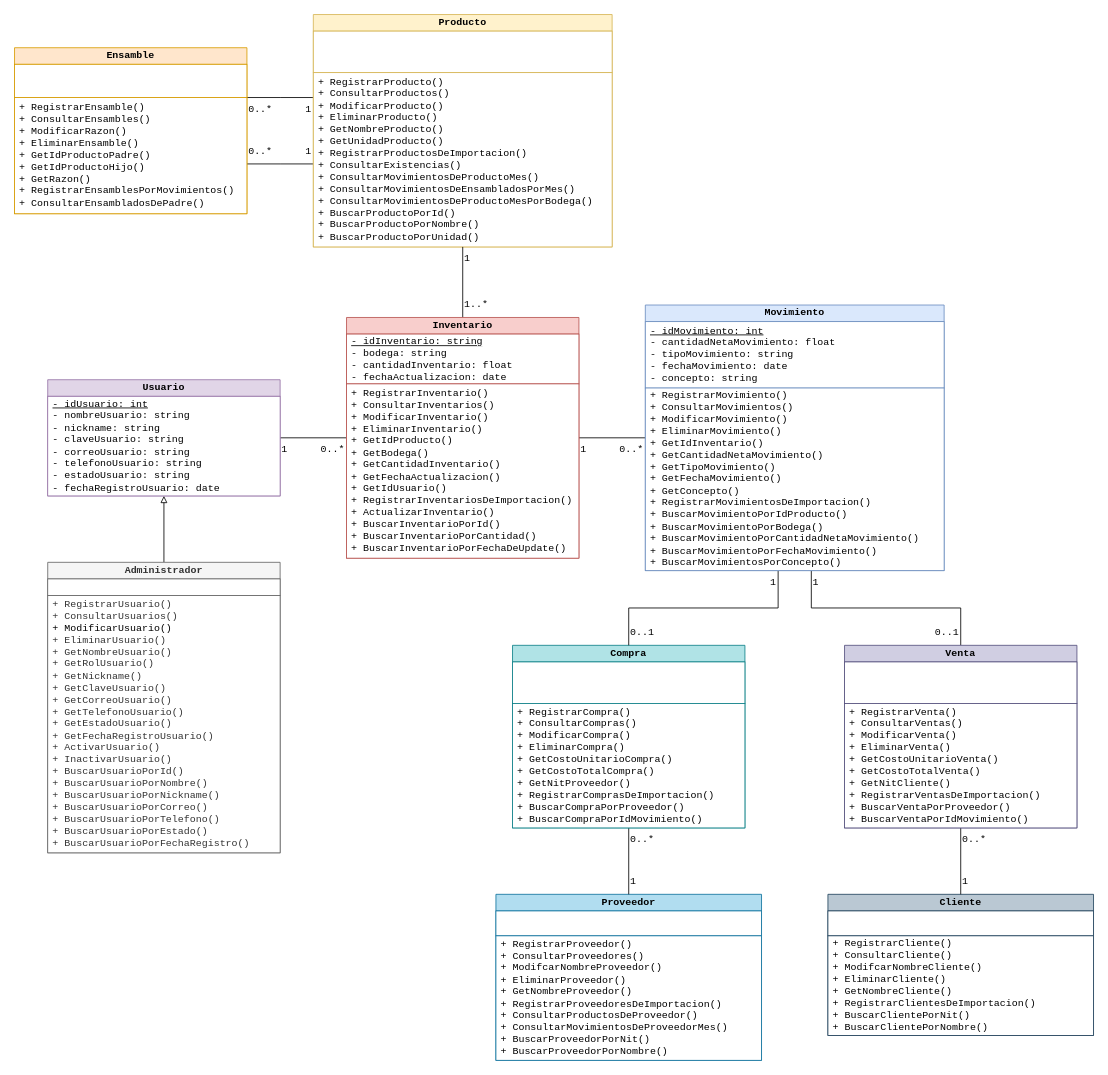
The diagram is 1108 pixels wide and 1075 high, and some of its shapes have lost their labels. Here are the shapes that lost their labels. From the top down, the centre of each, then its label:
At [462,51]: "- idProducto: int - nombreProducto: string - unidadProducto: string".
At [130,80]: "- idEnsamble: string - razonHijosPorPadre: float".
At [163,587]: "- idAdministrador: int".
At [628,682]: "- idCompra: int - costoUnitarioCompra: float - costoTotalCompra: float".
At [960,682]: "- idVenta: int - costoUnitarioVenta: float - costoTotalVenta: float".
At [628,923]: "- nitProveedor: string - nombreProveedor: string".
At [960,923]: "- nitCliente: string - nombreCliente: string".
